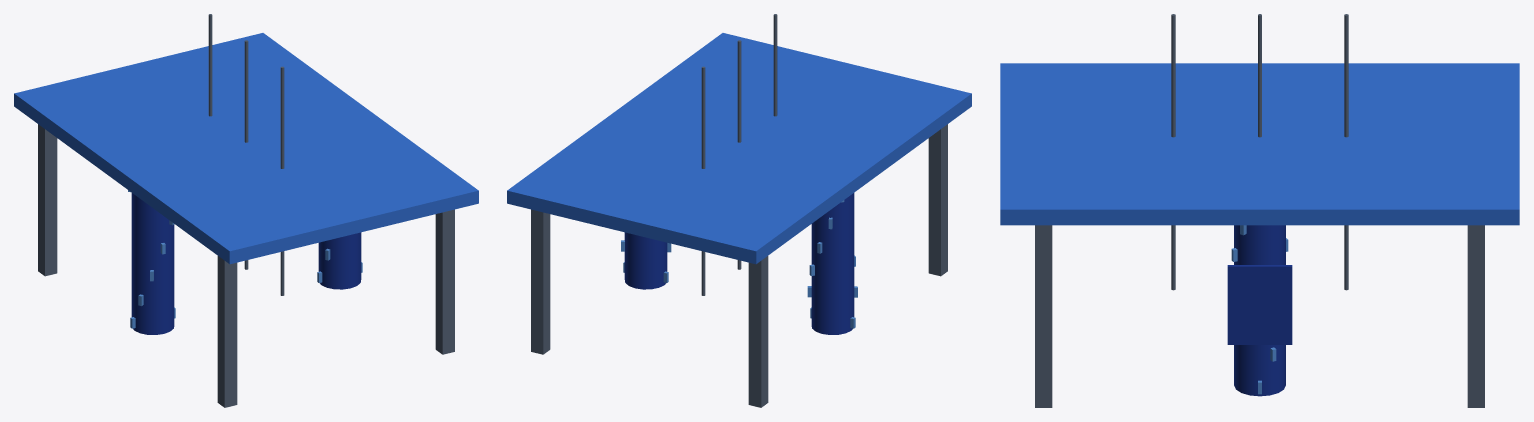
The model's file is yard-truck-wash-body-authored-vertex-colour-tripo-finish.glb.
The picture shows the model from 3 angles, left to right: view 1: azimuth 30°, elevation 25°; view 2: azimuth 150°, elevation 25°; view 3: azimuth 270°, elevation 25°; orthographic projection. The views are drawn at different scales.
Visible parts, largest first — view 1: Authored shadows false:false; view 2: Authored shadows false:false; view 3: Authored shadows false:false.
Part boxes in pixels (<box>): Authored shadows false:false: <box>14,14,478,407</box>; Authored shadows false:false: <box>507,14,971,407</box>; Authored shadows false:false: <box>1000,14,1519,407</box>.
Size of the model in its own units: 0.7125 by 0.6917 by 1.
